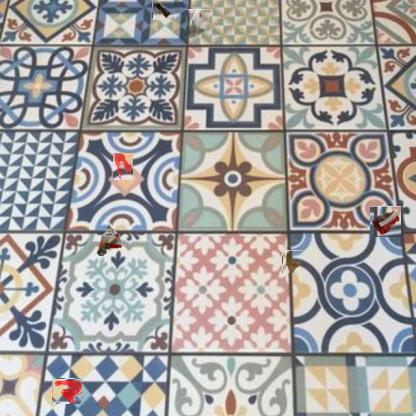dirty: (95, 222, 123, 258), (370, 206, 401, 238), (186, 9, 210, 38), (282, 250, 302, 273), (152, 0, 174, 20)
liquid: (52, 378, 82, 404), (113, 154, 133, 182)
